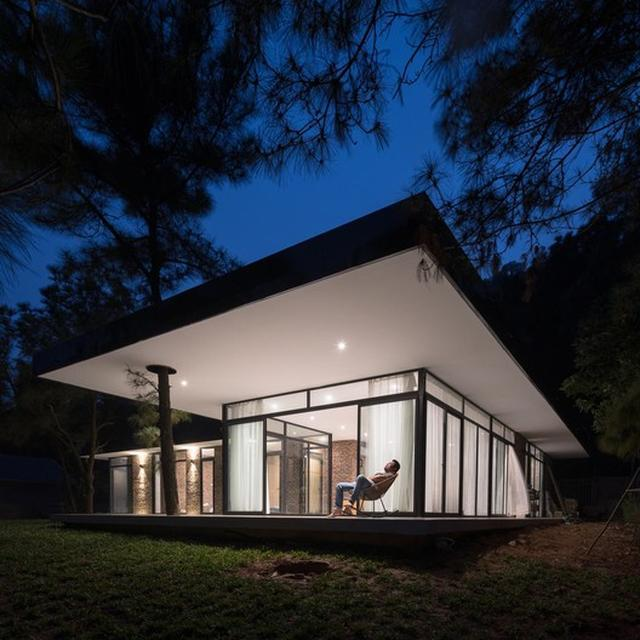building: (28, 186, 599, 545)
